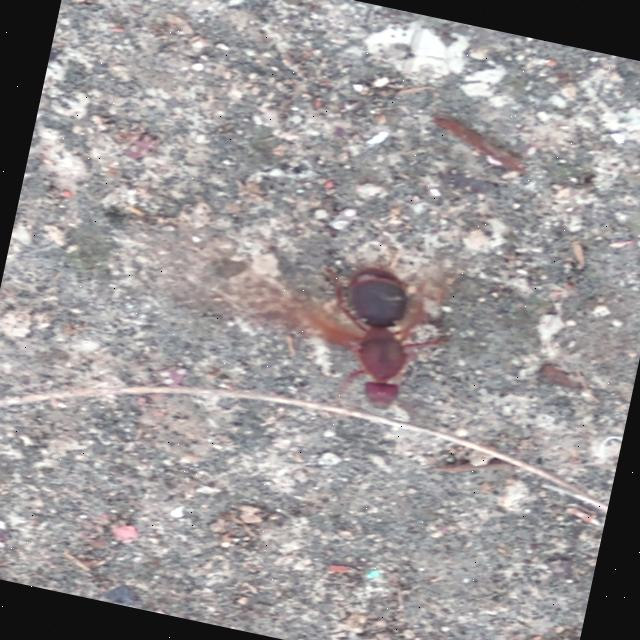Alive-Female-Alate: (179, 216, 465, 424)
